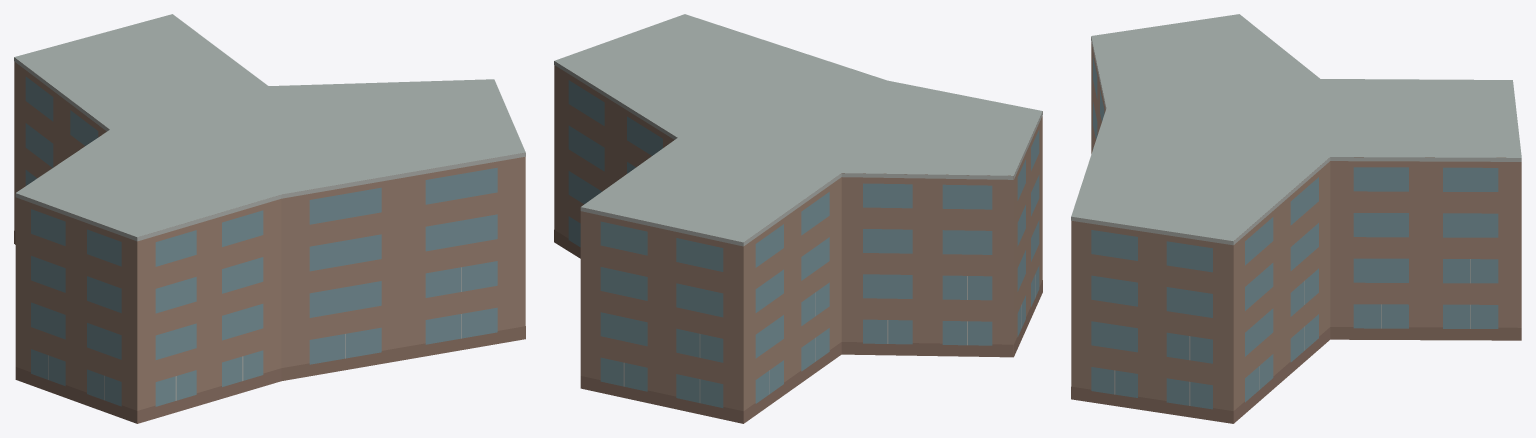
File: residential-3425bf69-3bb6-4f04-bcc3-a5fa9f3e1192.glb
3 renders of one model, left to right at view 1: azimuth 30°, elevation 25°; view 2: azimuth 150°, elevation 25°; view 3: azimuth 270°, elevation 25°, orthographic. The views are drawn at different scales.
Visible parts, largest first — view 1: residential-3425bf69-3bb6-4f04-bcc3-a5fa9f3e1192.tmp; view 2: residential-3425bf69-3bb6-4f04-bcc3-a5fa9f3e1192.tmp; view 3: residential-3425bf69-3bb6-4f04-bcc3-a5fa9f3e1192.tmp.
Boxes of the visible parts, x1,y1,x2,y2 form: residential-3425bf69-3bb6-4f04-bcc3-a5fa9f3e1192.tmp: [14, 14, 525, 423]; residential-3425bf69-3bb6-4f04-bcc3-a5fa9f3e1192.tmp: [554, 14, 1042, 423]; residential-3425bf69-3bb6-4f04-bcc3-a5fa9f3e1192.tmp: [1071, 14, 1521, 423].
Bounding box in the file's own units: 29.06 × 10.89 × 24.36.
